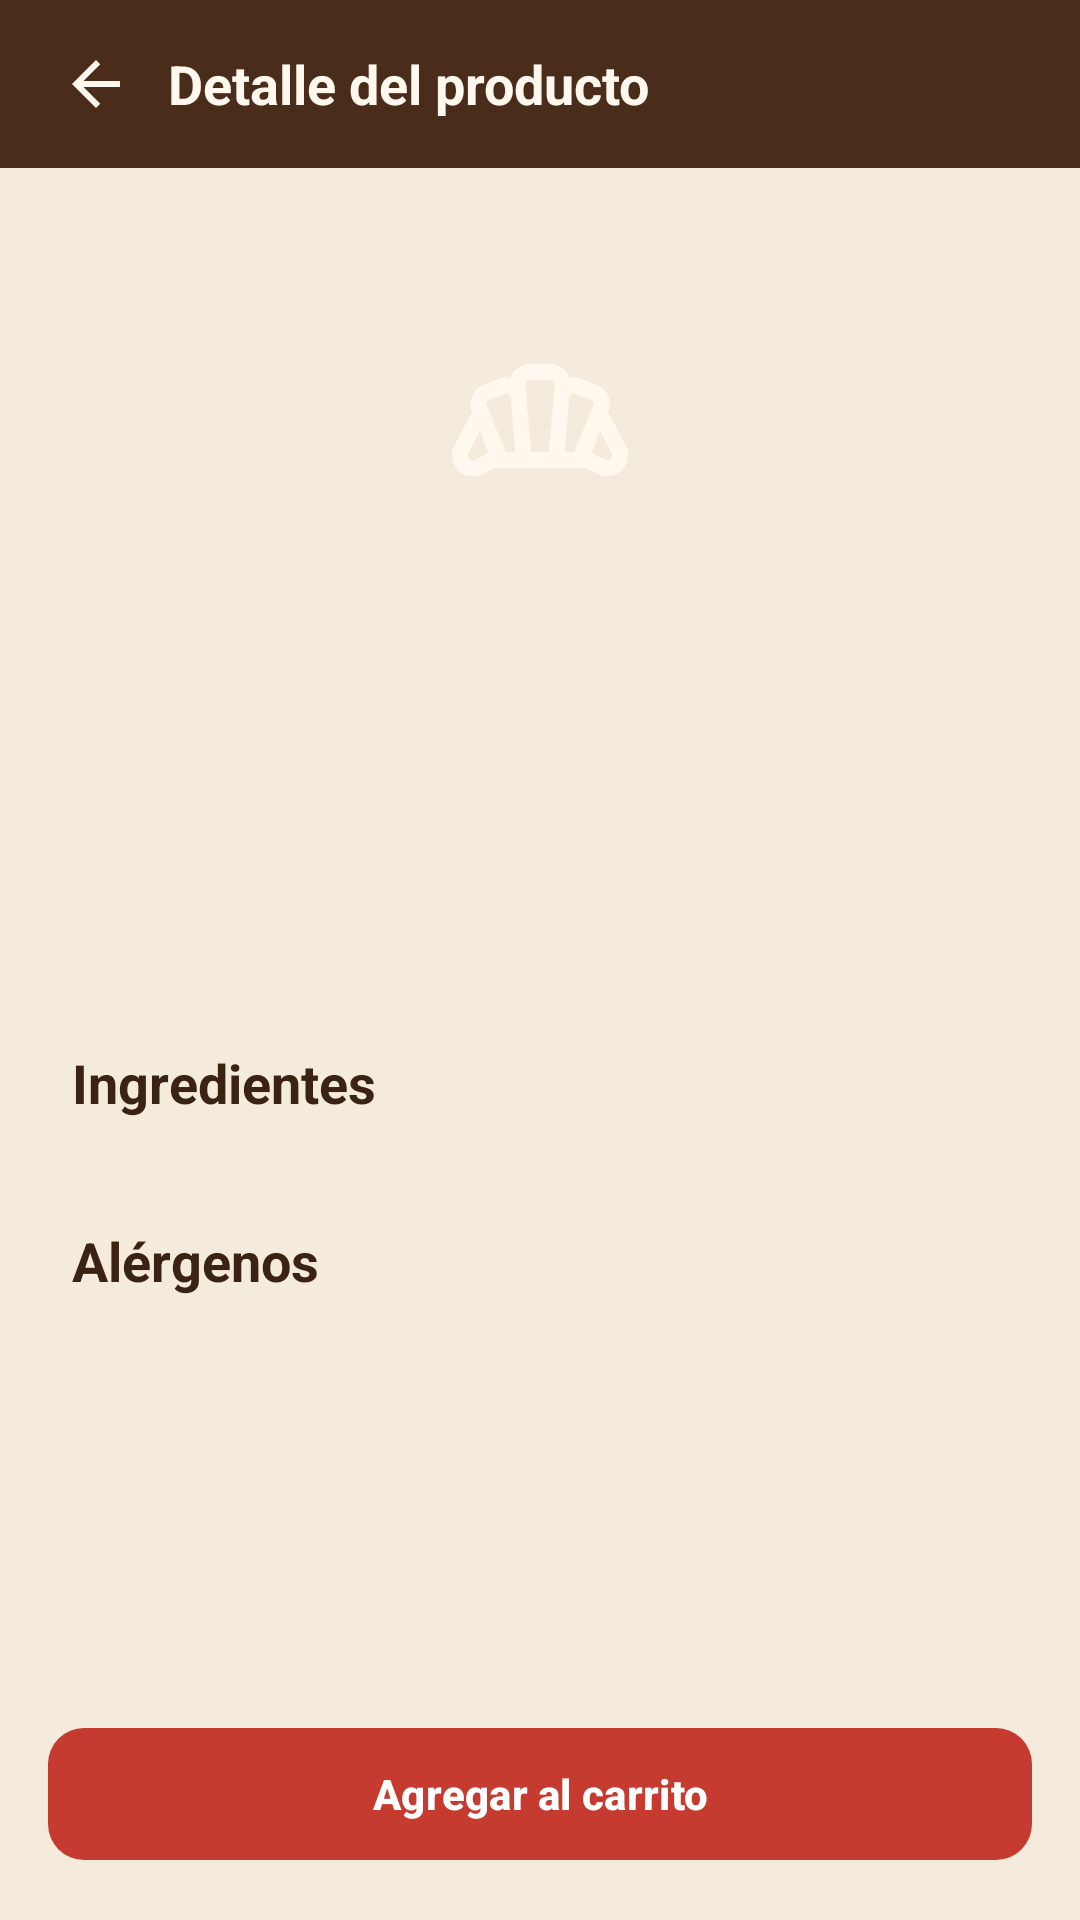

Icons on this 1080 x 1920 Android screen, each with the point to tap as (x,y):
Volver: (96,84)
